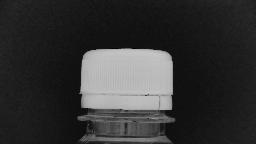Broken Ring: (153, 92, 167, 112)
Loose Cap: (74, 87, 180, 126)
